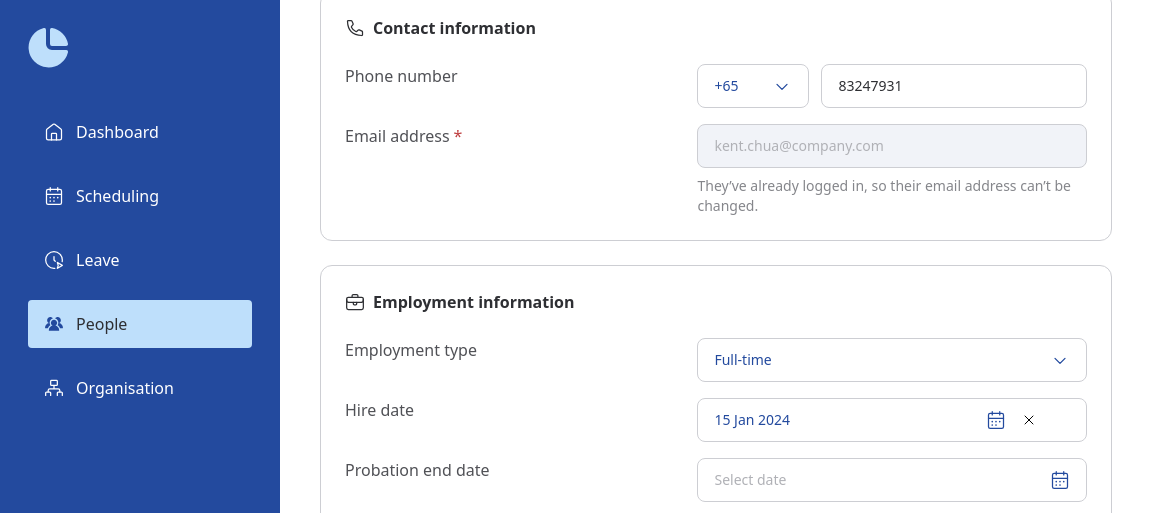
Test: Editing a person › saves other details while leaving an unassigned person without a department
(page scrolled)
Click the button named "Employment type": x=743, y=360 [698,338,1087,382]
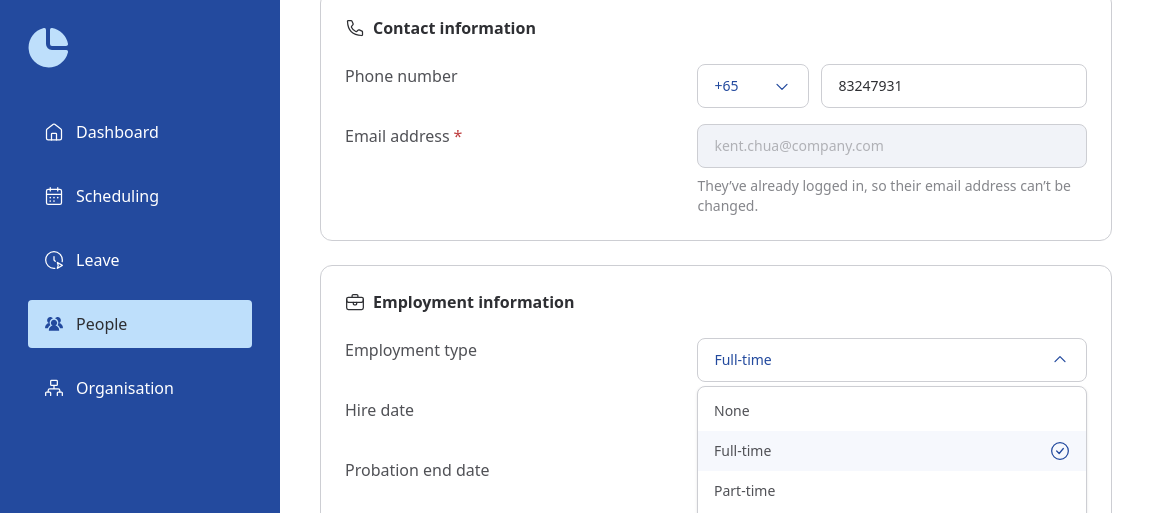
Click the option "Part-time": x=745, y=490 [714,481,775,500]
(page scrolled)
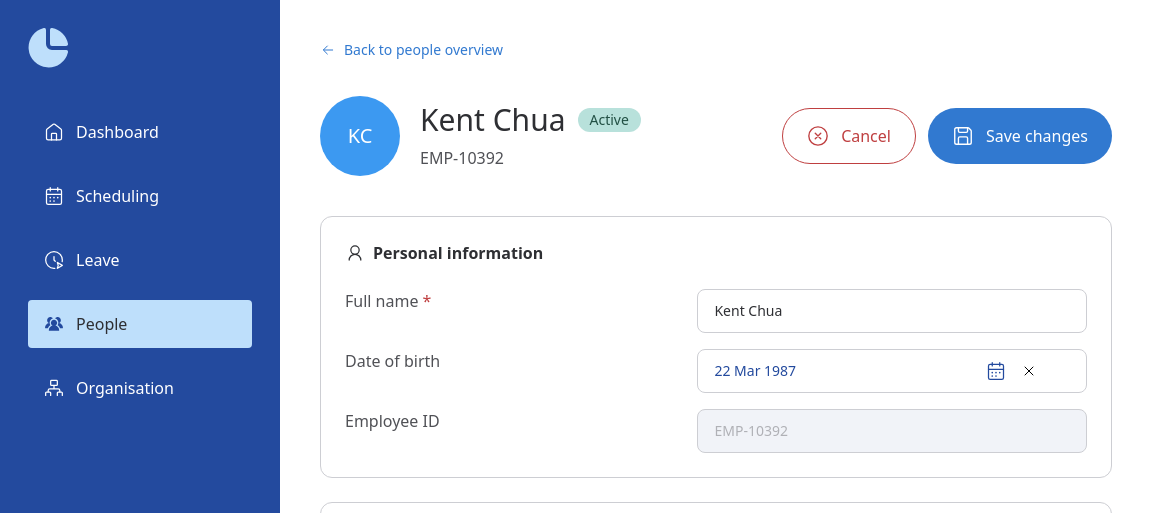
Click the button "Save changes": x=1020, y=136 [928,108,1112,164]
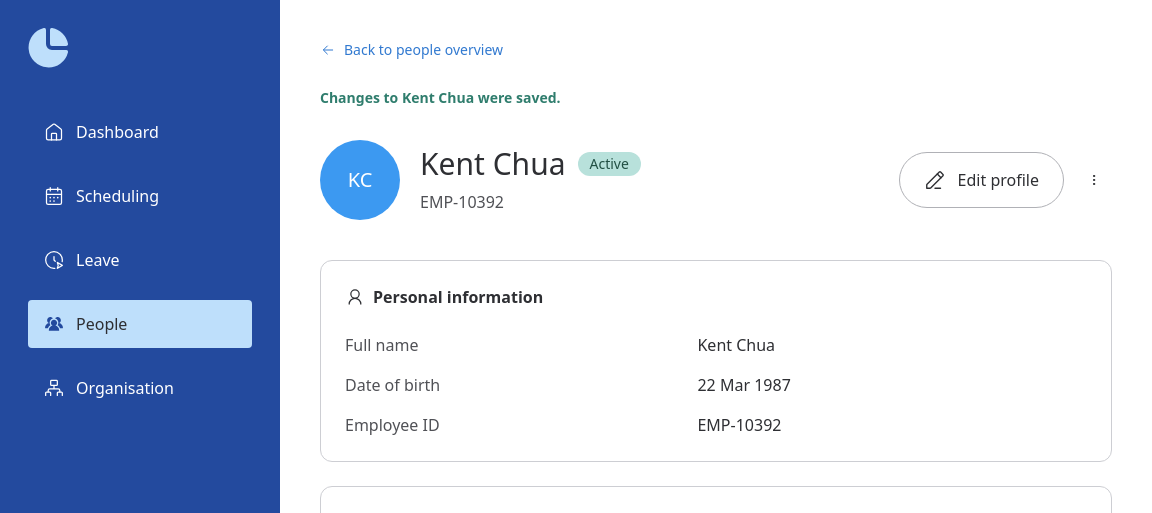
Expected: the text "Changes to Kent Chua were saved." is shown, [320,88,560,107]
